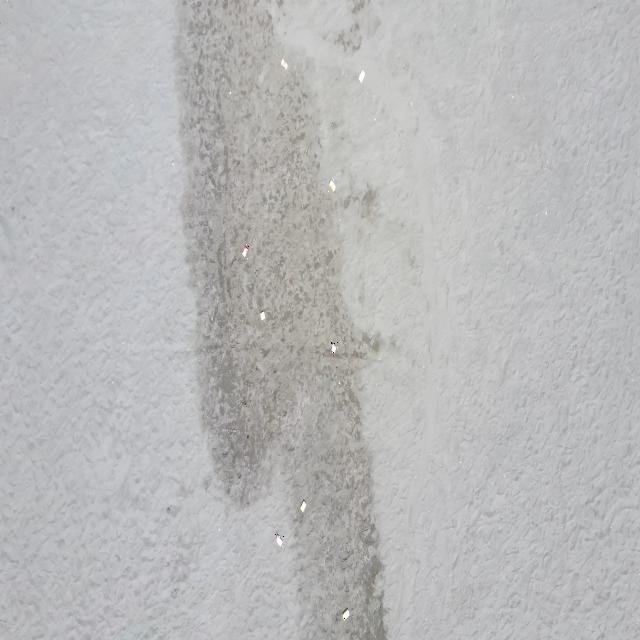Garbage: (276, 532, 283, 546), (280, 57, 287, 70), (328, 179, 335, 191), (241, 244, 248, 256), (357, 70, 364, 81), (300, 500, 306, 512), (342, 607, 347, 619), (331, 340, 335, 352), (260, 311, 264, 320)
